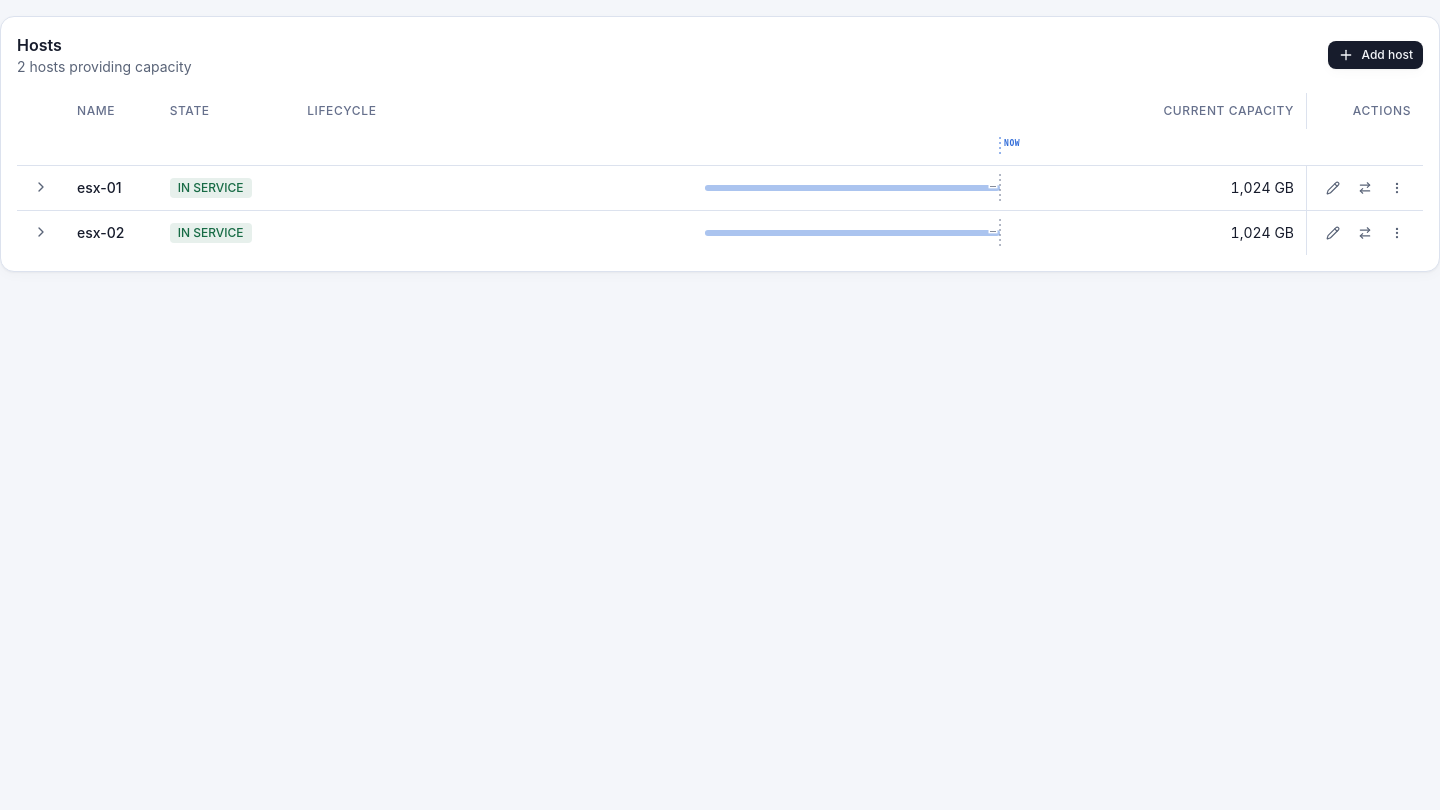
Test: HostsTab › row actions overflow menu (#243 Part B Medium) › opens the Decommission dialog from the menu without a focus-loop crash
Expected: the text "esx-01" is shown, [77, 178, 122, 196]
Click the button named "More actions" in the row of "esx-01" at (1397, 188), box [1383, 174, 1411, 202]
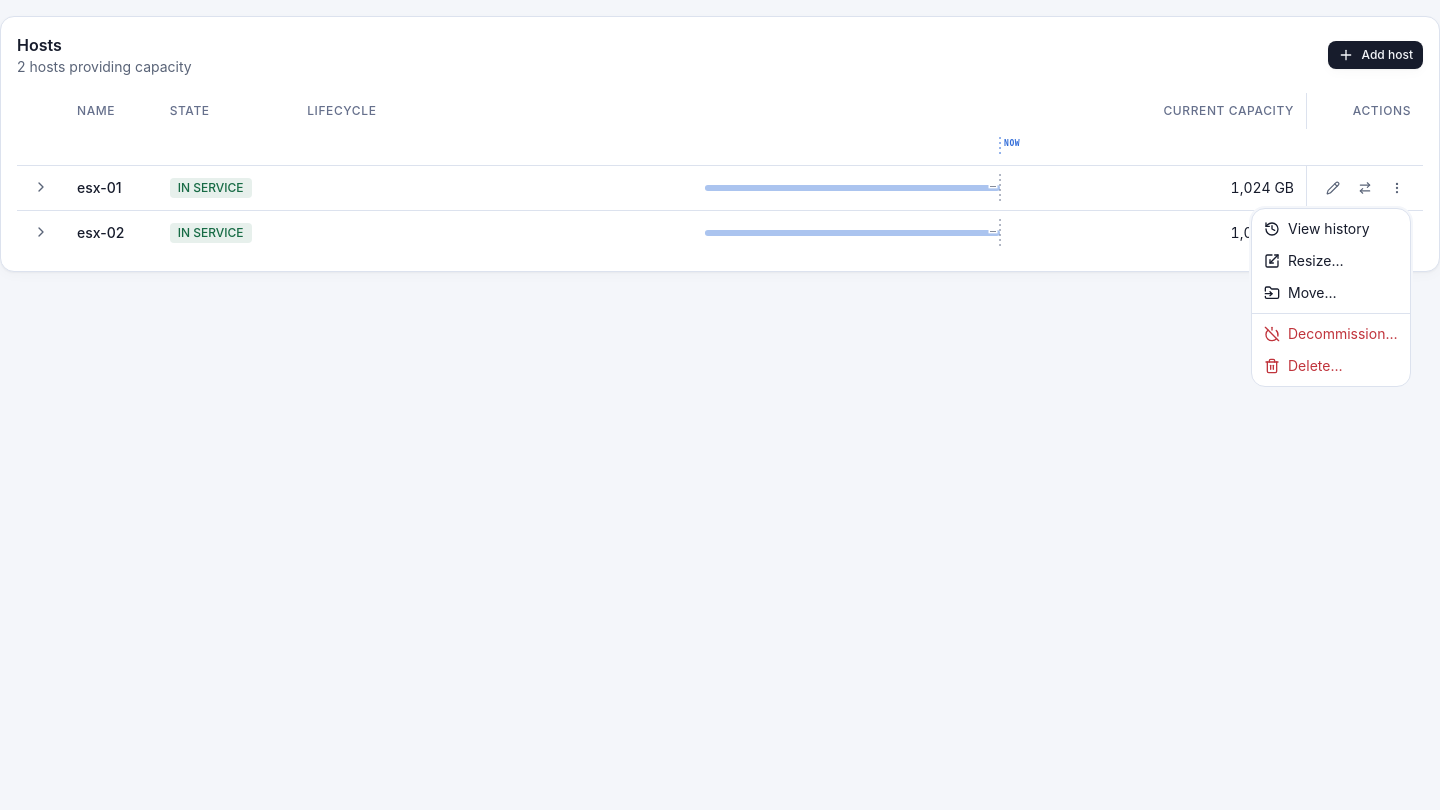
Click the menu item "Decommission…" at (1331, 334), box [1264, 325, 1398, 342]
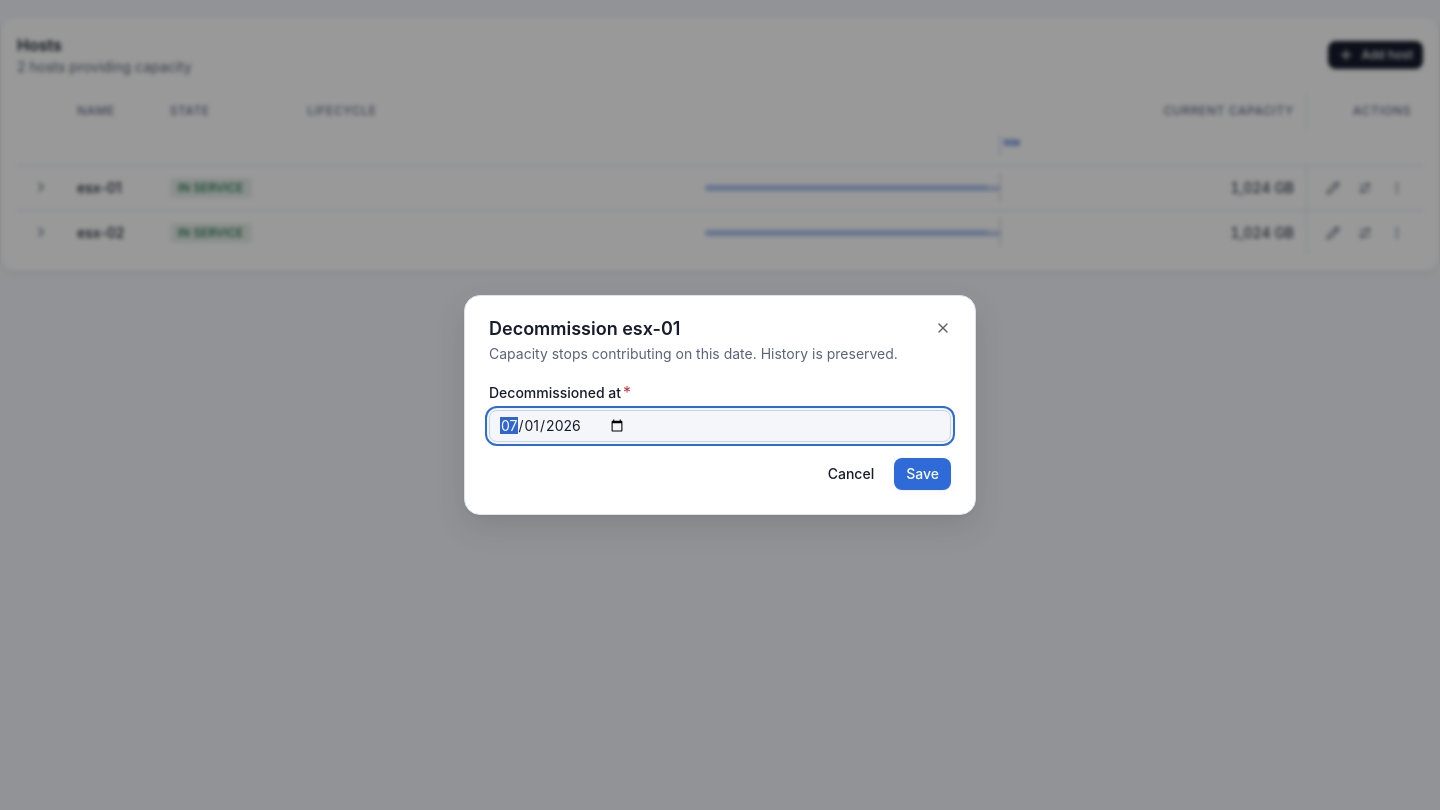
Now the dialog is shown, box [464, 295, 976, 515]
